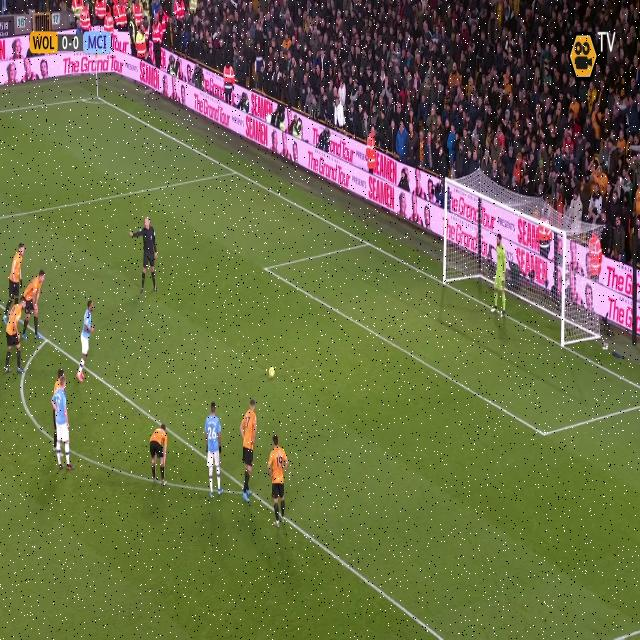Ball: (266, 359, 277, 384)
GoalKeeper: (492, 229, 510, 316)
TEAM 1: (56, 379, 72, 475), (82, 300, 96, 380)
TEAM 2: (239, 398, 258, 502), (268, 436, 287, 529), (3, 302, 27, 374), (21, 272, 45, 341), (205, 406, 222, 500), (150, 423, 170, 486), (7, 243, 26, 309), (50, 370, 68, 390)
